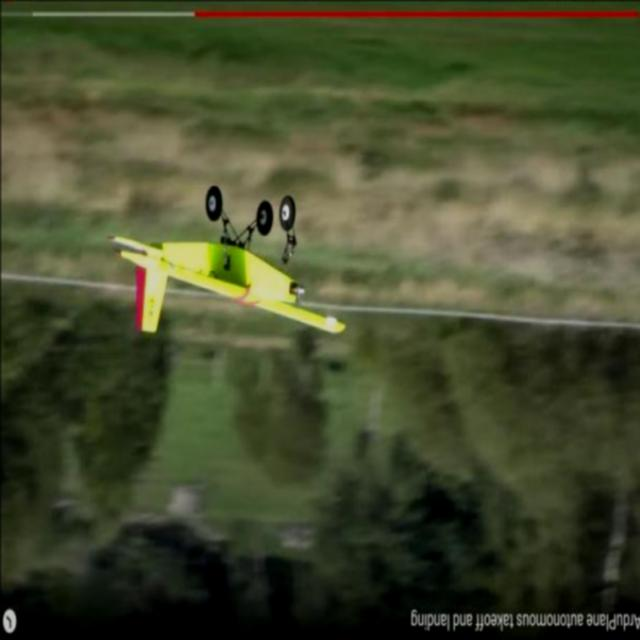plane: (105, 185, 348, 336)
